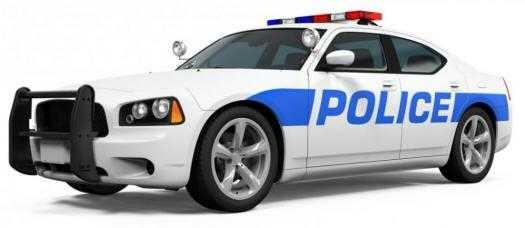Police Car: (15, 18, 516, 209)
